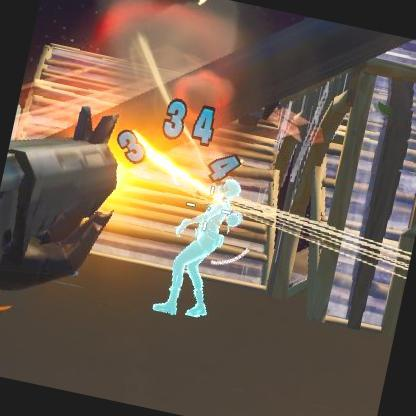person: (154, 168, 249, 324)
